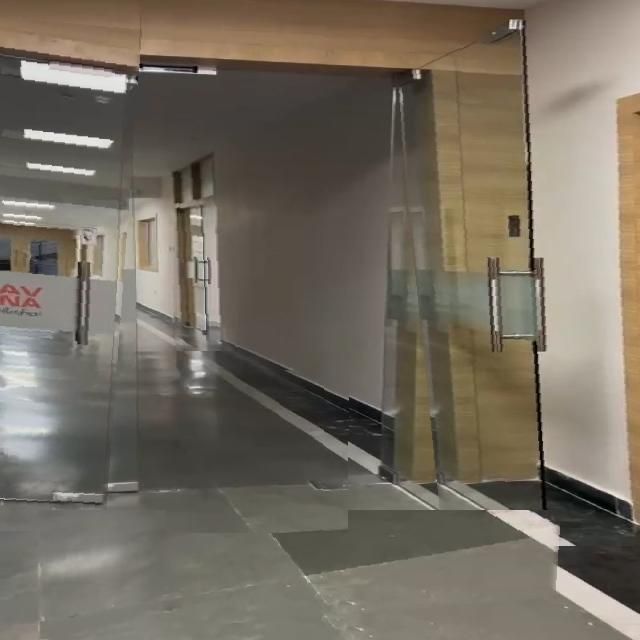door: (390, 30, 640, 546), (0, 17, 142, 531), (169, 163, 238, 351)
floor: (38, 510, 564, 640), (166, 367, 349, 533)
